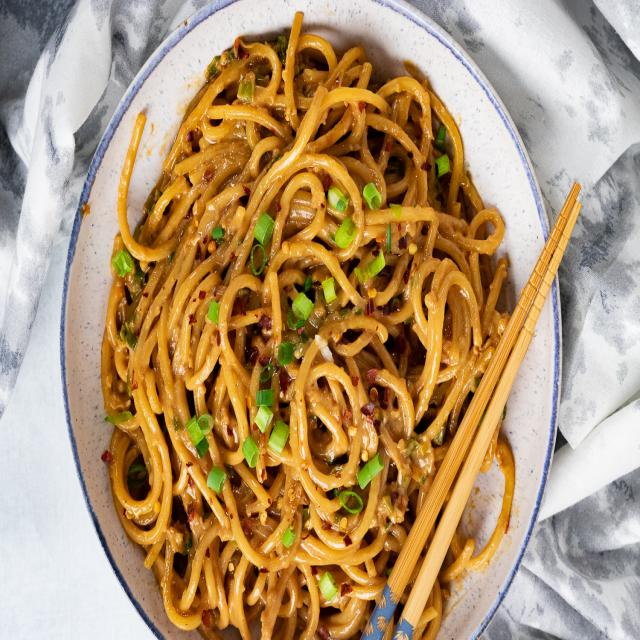noodle: (100, 28, 508, 640)
